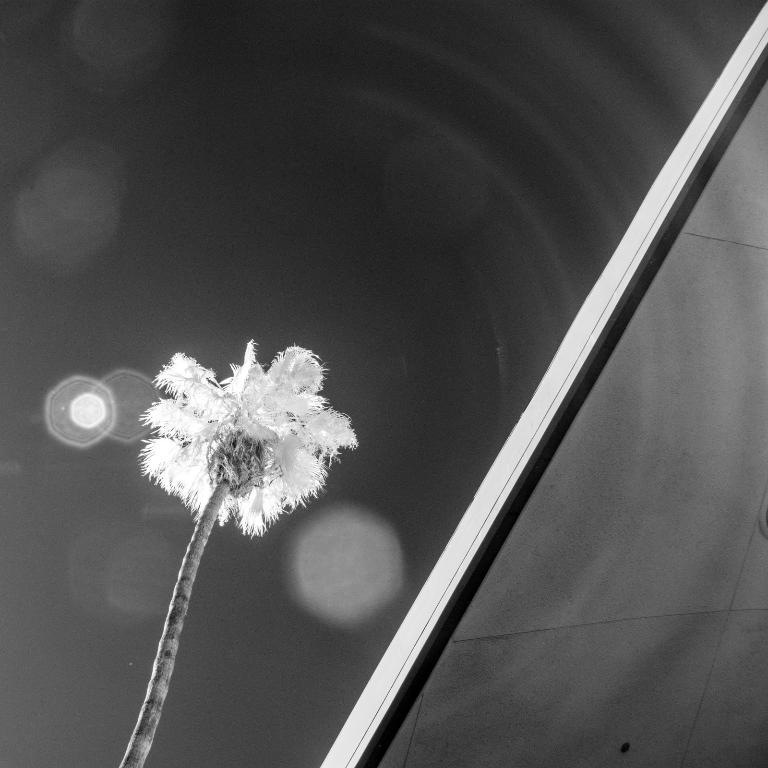Tree: (114, 336, 359, 767)
